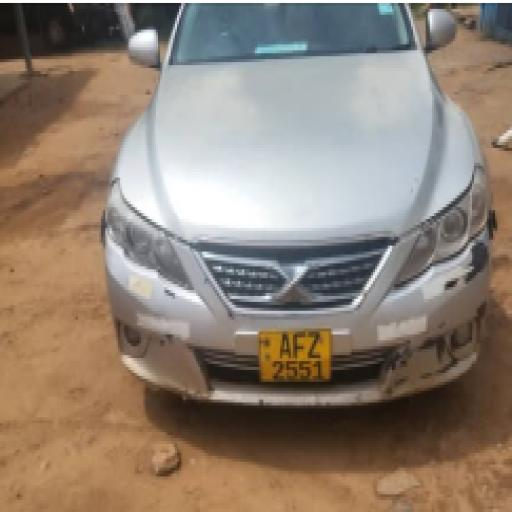number-plates: (262, 330, 330, 386)
